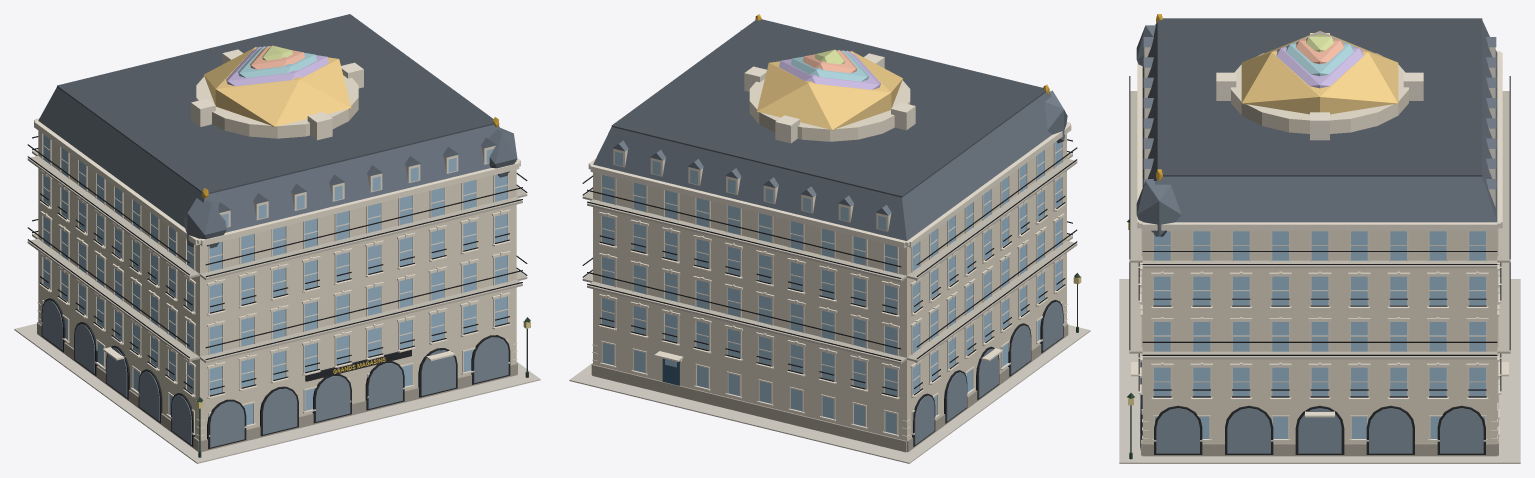
The model's file is Simge_buyuk_magaza_Hafif.fbx.
3 views of the same model, side by side, from view 1: azimuth 30°, elevation 25°; view 2: azimuth 150°, elevation 25°; view 3: azimuth 270°, elevation 25° (orthographic). The views are drawn at different scales.
Parts seen in each view (by area): view 1: Simge_buyuk_magaza_Hafif; view 2: Simge_buyuk_magaza_Hafif; view 3: Simge_buyuk_magaza_Hafif.
Part boxes in pixels (box(x1,y1,x2,y2)): Simge_buyuk_magaza_Hafif: box(14, 14, 540, 463); Simge_buyuk_magaza_Hafif: box(569, 14, 1090, 463); Simge_buyuk_magaza_Hafif: box(1119, 14, 1520, 463).
Size of the model in its own units: 26 by 22.13 by 24.
